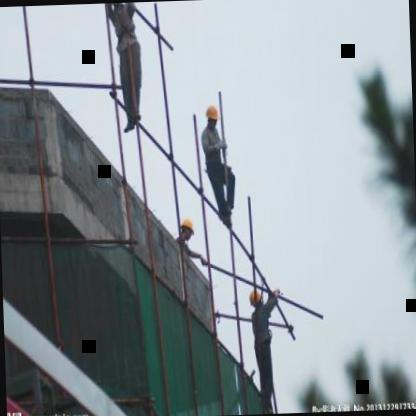helmet: (204, 102, 221, 133), (176, 216, 194, 245), (249, 287, 266, 310)
